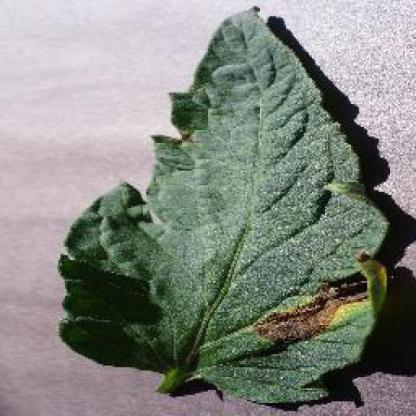Tomato_Blight: (58, 7, 386, 402)
